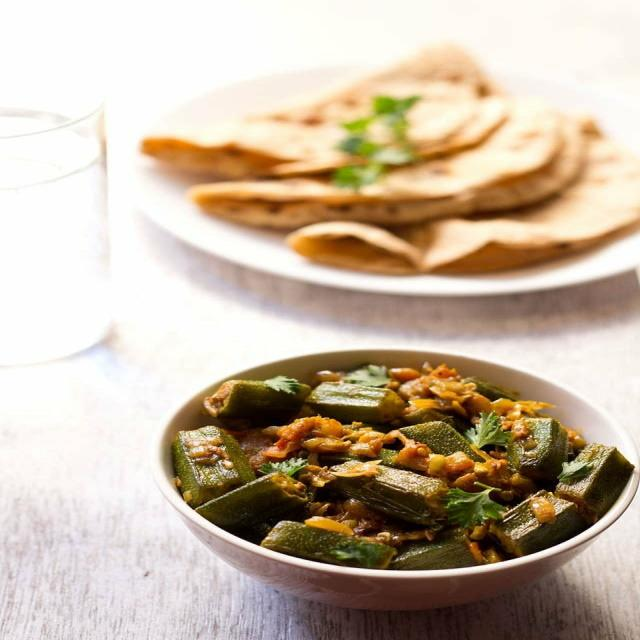BhindiMasala: (166, 363, 633, 571)
